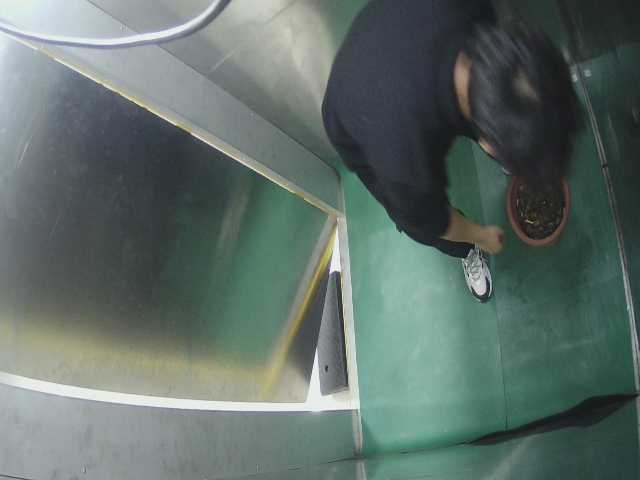flowerpot: (497, 169, 581, 250)
person: (308, 7, 562, 303)
